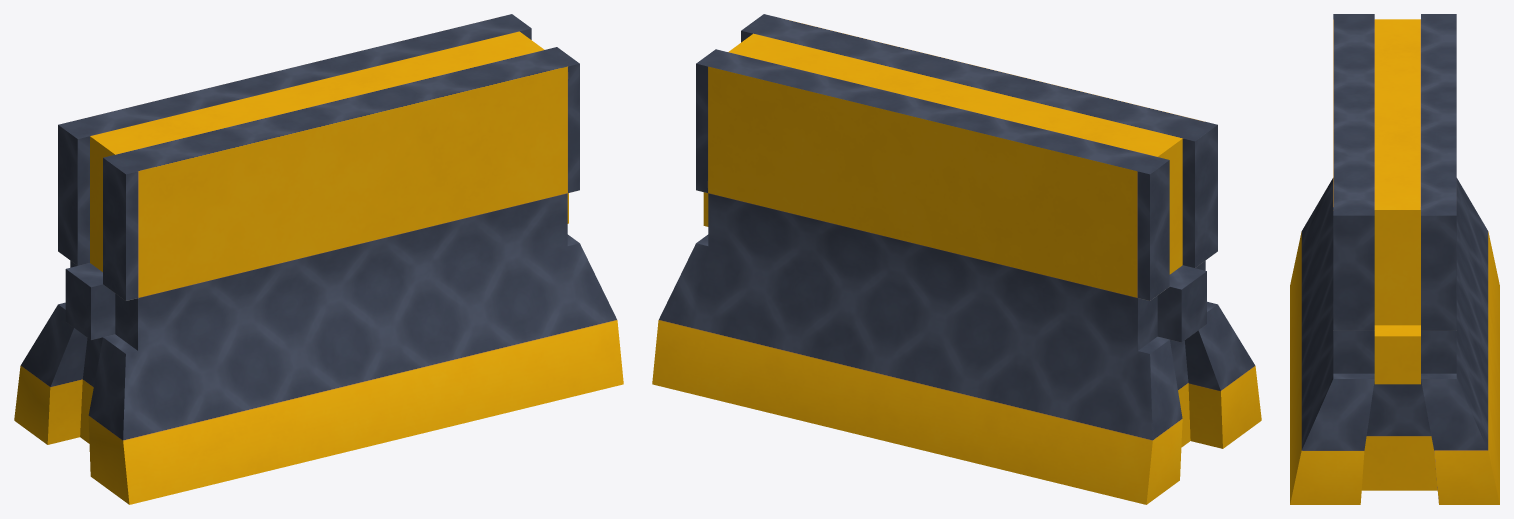
File: ChaosZooCityMapBarricade.fbx
3 views of the same model, side by side, from view 1: azimuth 30°, elevation 25°; view 2: azimuth 150°, elevation 25°; view 3: azimuth 270°, elevation 25° (orthographic). The views are drawn at different scales.
Visible parts, largest first — view 1: pCube45; view 2: pCube45; view 3: pCube45.
Part boxes in pixels (x1,y1,x2,y2): pCube45: [14, 14, 623, 504]; pCube45: [652, 14, 1261, 504]; pCube45: [1290, 14, 1499, 504].
Bounding box in the file's own units: 14.24 × 8.49 × 5.76.
